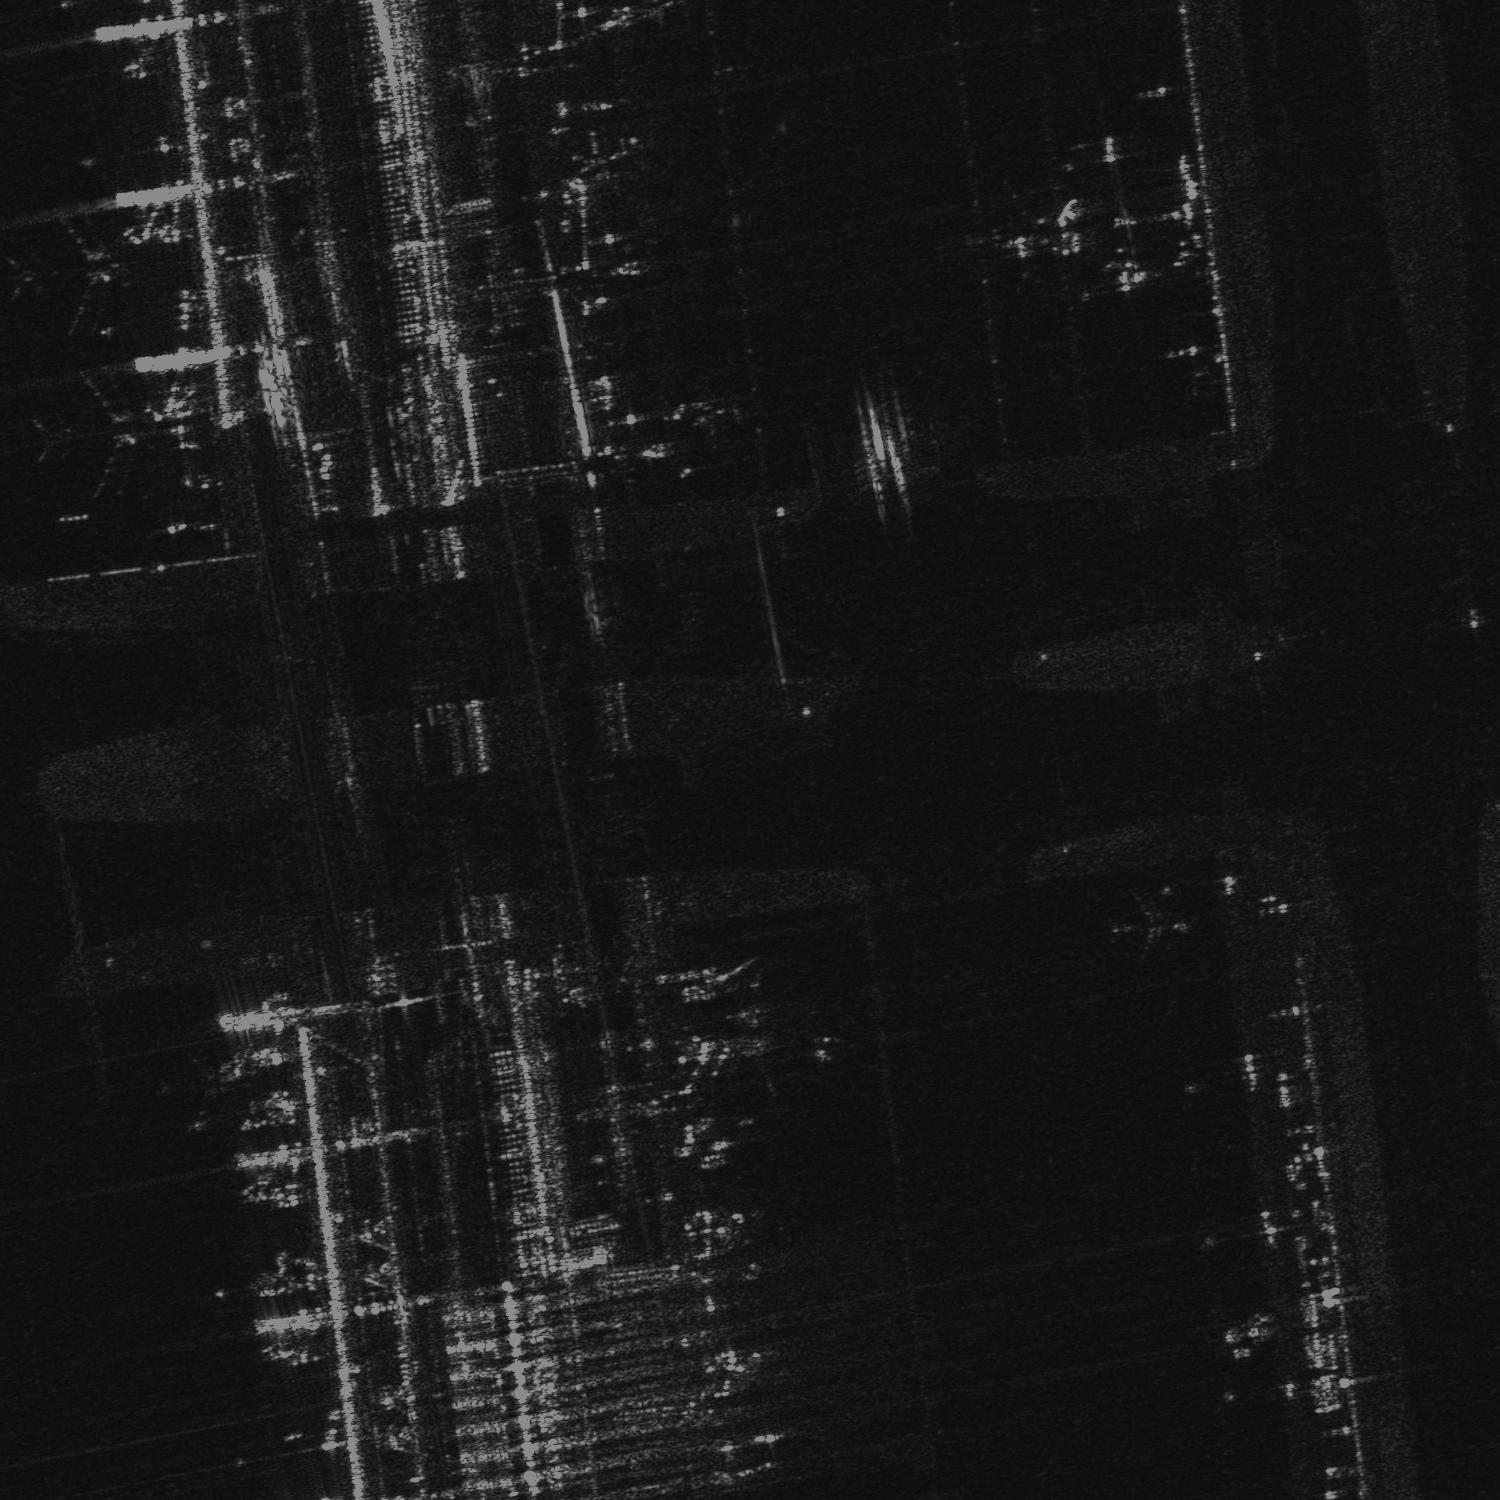A330: (25, 372, 170, 500)
Boeing737: (1102, 891, 1196, 968)
Boeing787: (3, 209, 135, 337)
